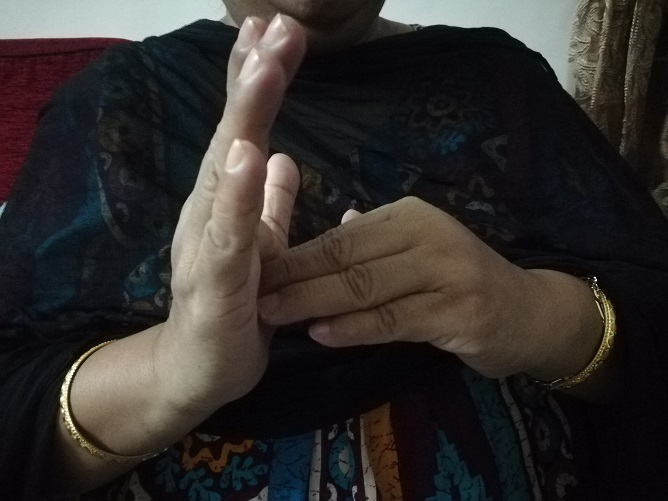ga: (198, 16, 478, 379)
